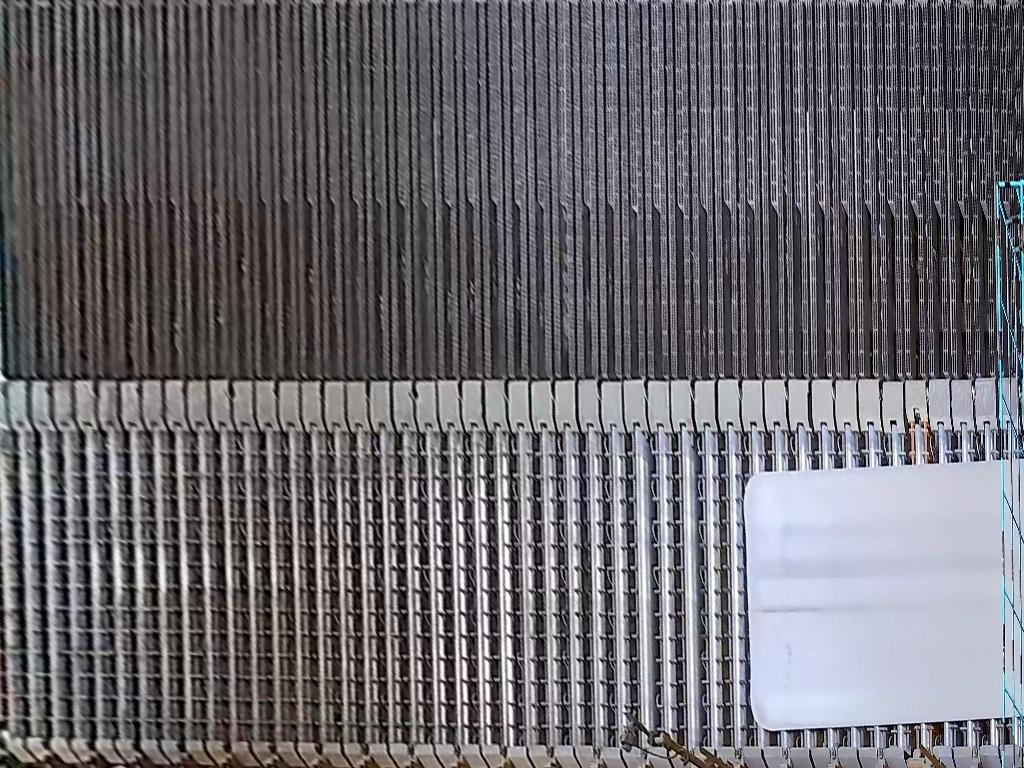steel: (743, 457, 1024, 731)
